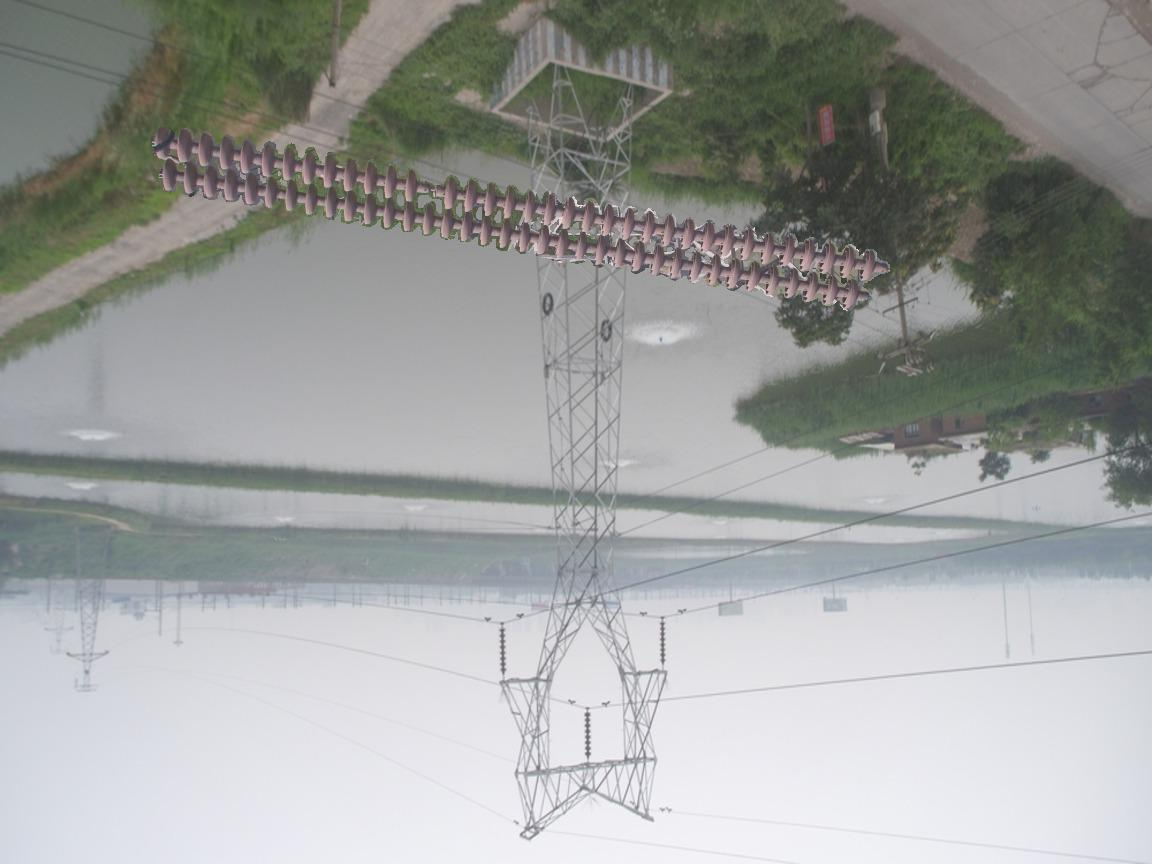insulator: (150, 122, 893, 315), (581, 709, 597, 761), (496, 622, 511, 677), (655, 617, 670, 665)
insulator_stringdrop: (401, 166, 461, 213)
